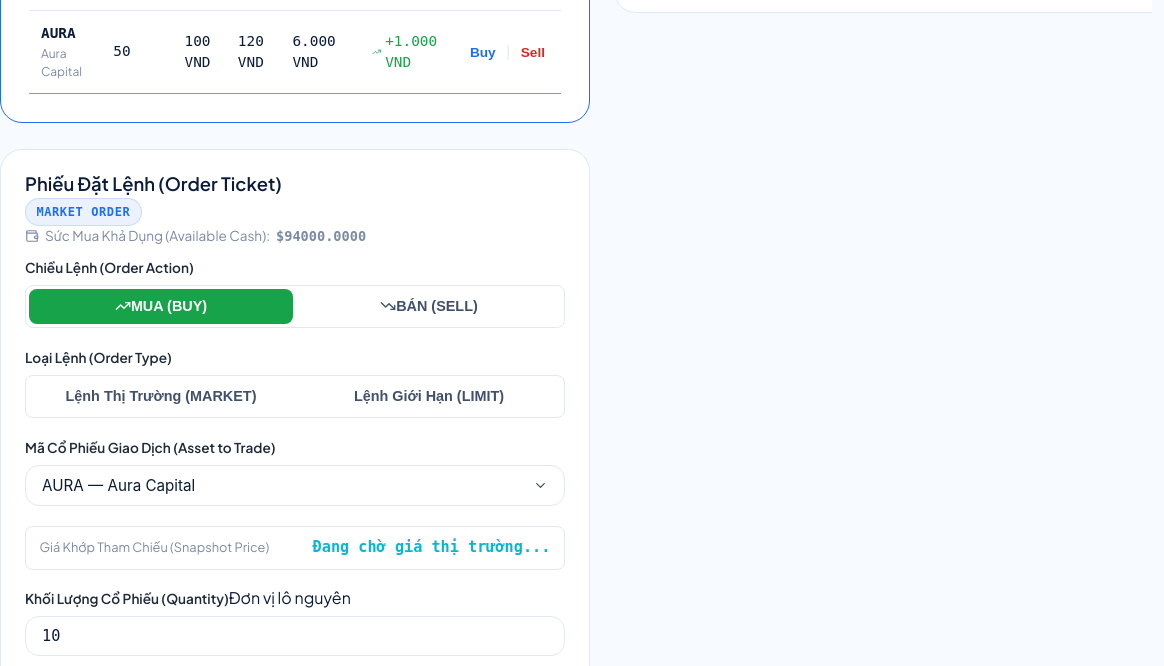
Scenario: SimulationDashboardPage (FEAT-038: AC-001..AC-016) › handles INSUFFICIENT_POSITION domain rejection safely in the order ticket (AC-011)
(page scrolled)
Step 1. Click the radio button with test id "side-sell-button" → (429, 306), box top-left (297, 289), bottom-right (561, 324)
(page scrolled)
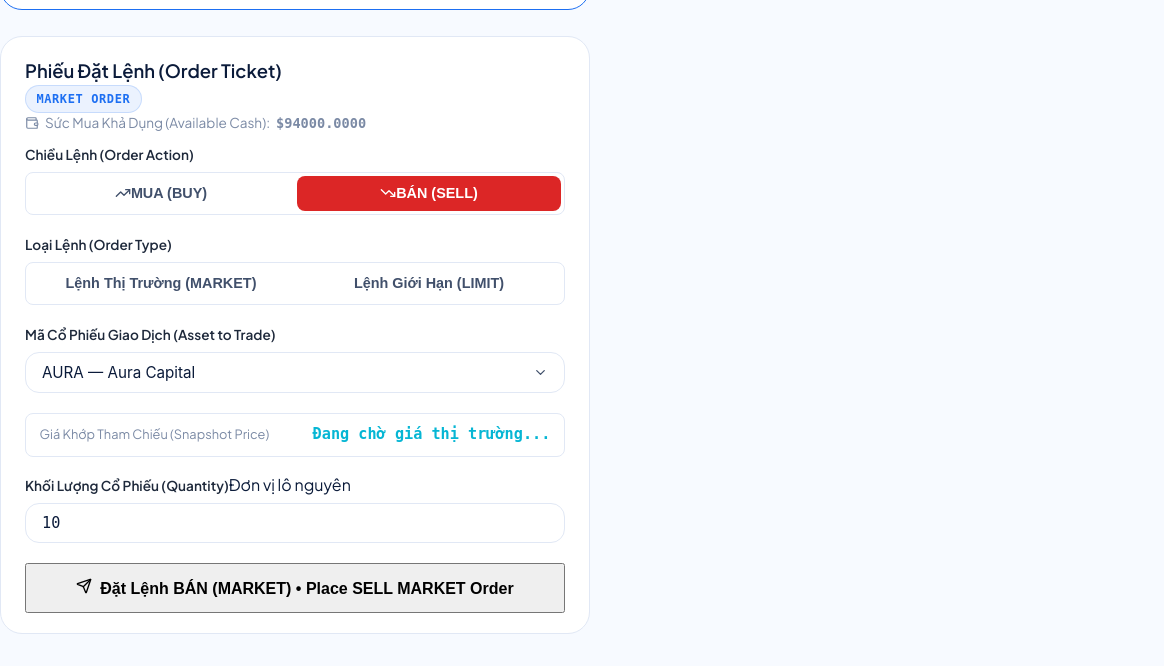
Step 2. Click the button with test id "submit-order-button" → (295, 588), box top-left (25, 563), bottom-right (565, 613)
(page scrolled)
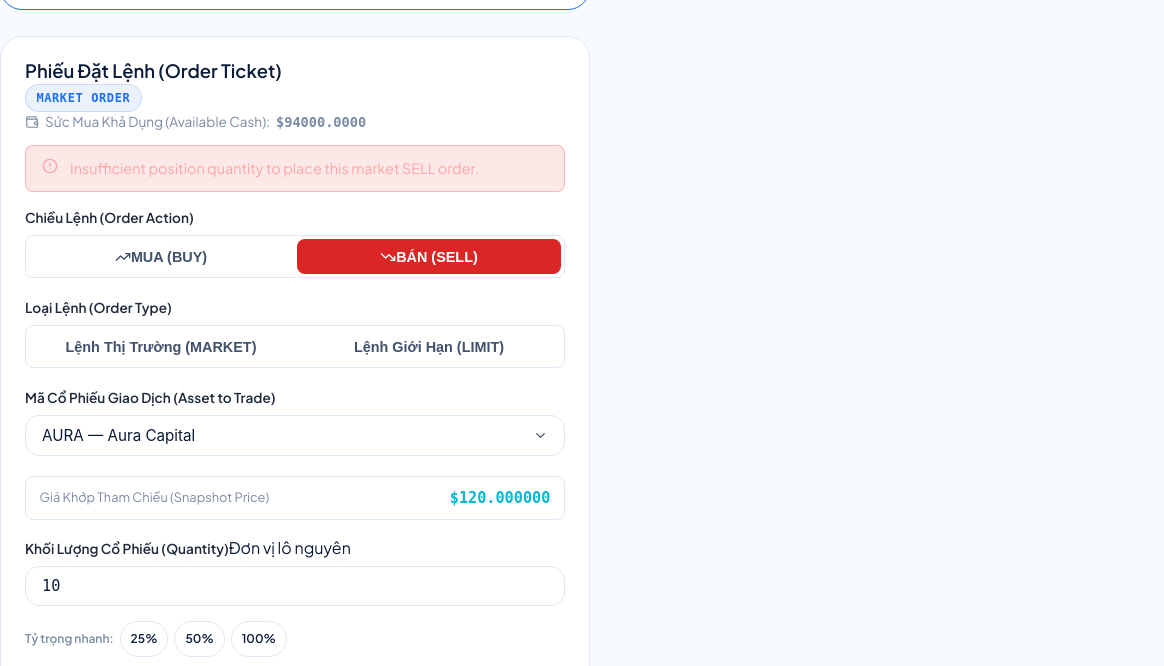
expect the message "Insufficient position quantity to place this market SELL order." is shown: met, box top-left (25, 145), bottom-right (565, 192)
expect the text "Insufficient position quantity to place this market SELL order" is shown: met, box top-left (70, 159), bottom-right (479, 177)
